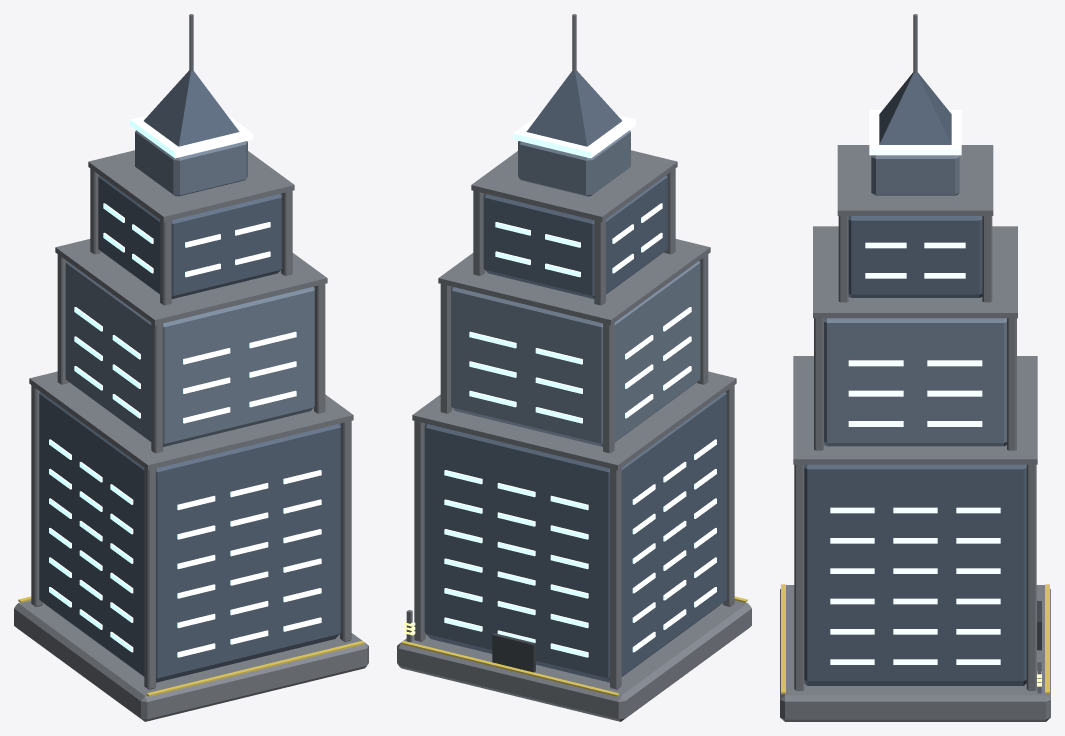
File: zone_high_4_t3.glb
3 renders of one model, left to right at view 1: azimuth 30°, elevation 25°; view 2: azimuth 150°, elevation 25°; view 3: azimuth 270°, elevation 25°, orthographic. The views are drawn at different scales.
Parts seen in each view (by area): view 1: zone_high_4_t3, detail; view 2: zone_high_4_t3, detail; view 3: zone_high_4_t3, detail.
Boxes of the visible parts, <box> form: zone_high_4_t3: <box>14,70,368,721</box>; detail: <box>18,14,364,696</box>; zone_high_4_t3: <box>397,70,751,721</box>; detail: <box>401,14,747,696</box>; zone_high_4_t3: <box>780,72,1050,721</box>; detail: <box>781,14,1049,694</box>.
Size of the model in its own units: 27.5 by 73.07 by 27.5.
